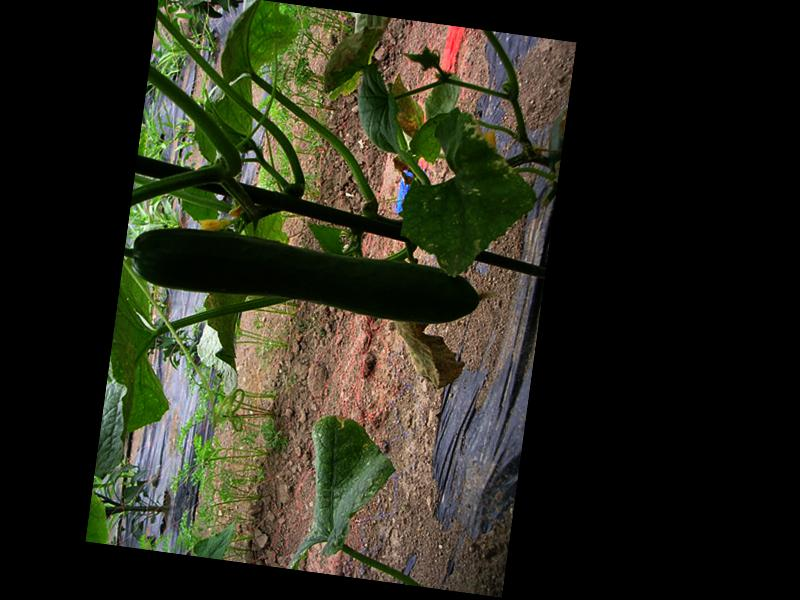Cucumber: (128, 219, 493, 332)
